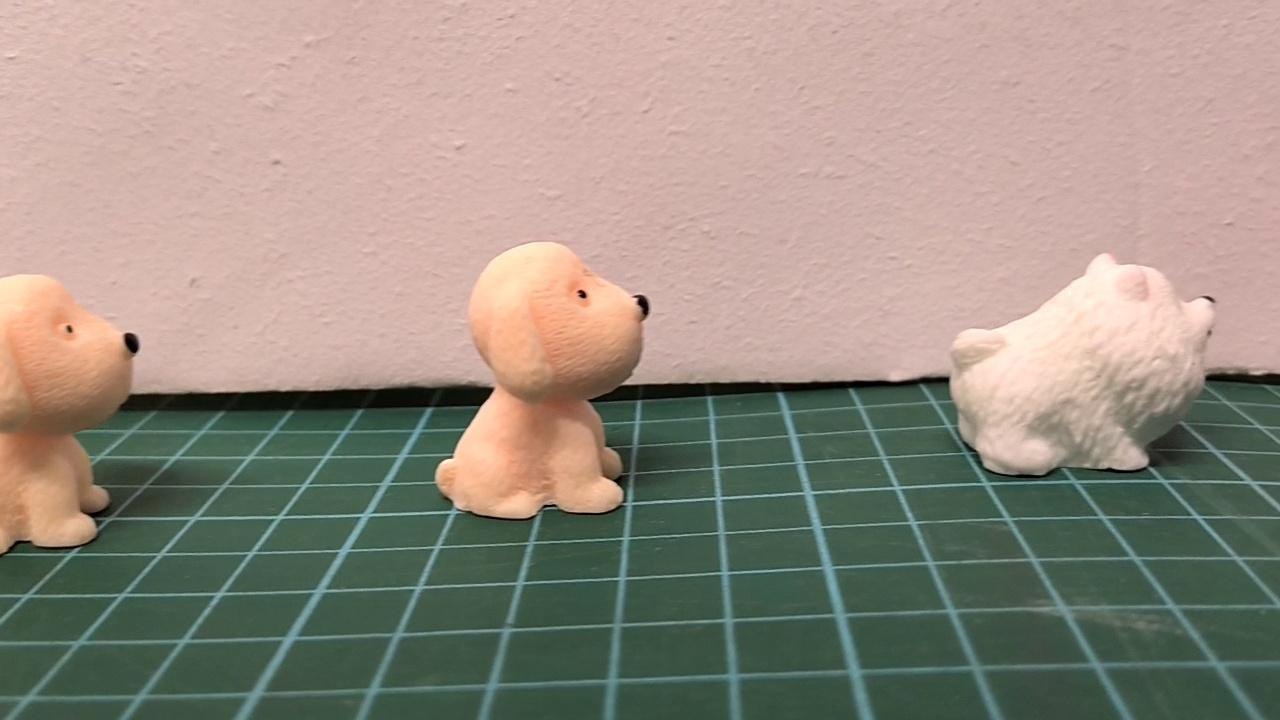pet: (949, 254, 1217, 478), (437, 242, 648, 522), (0, 274, 141, 555)
